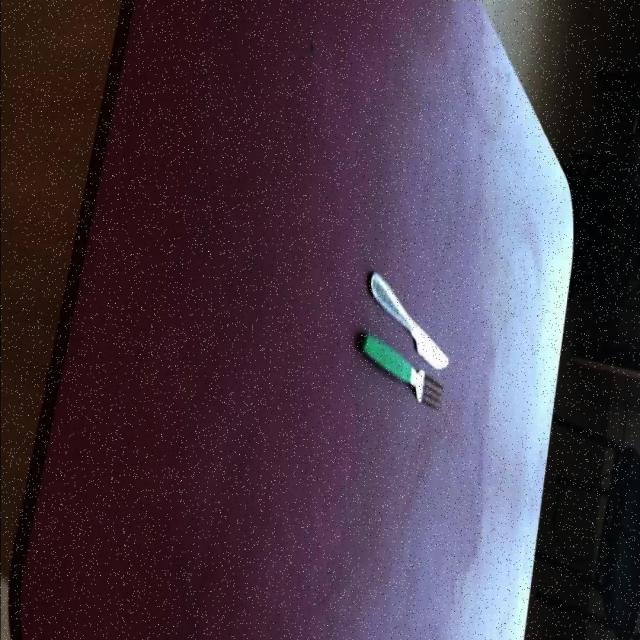Fork: (359, 334, 445, 414)
Knife: (359, 272, 452, 413), (370, 272, 450, 372)
